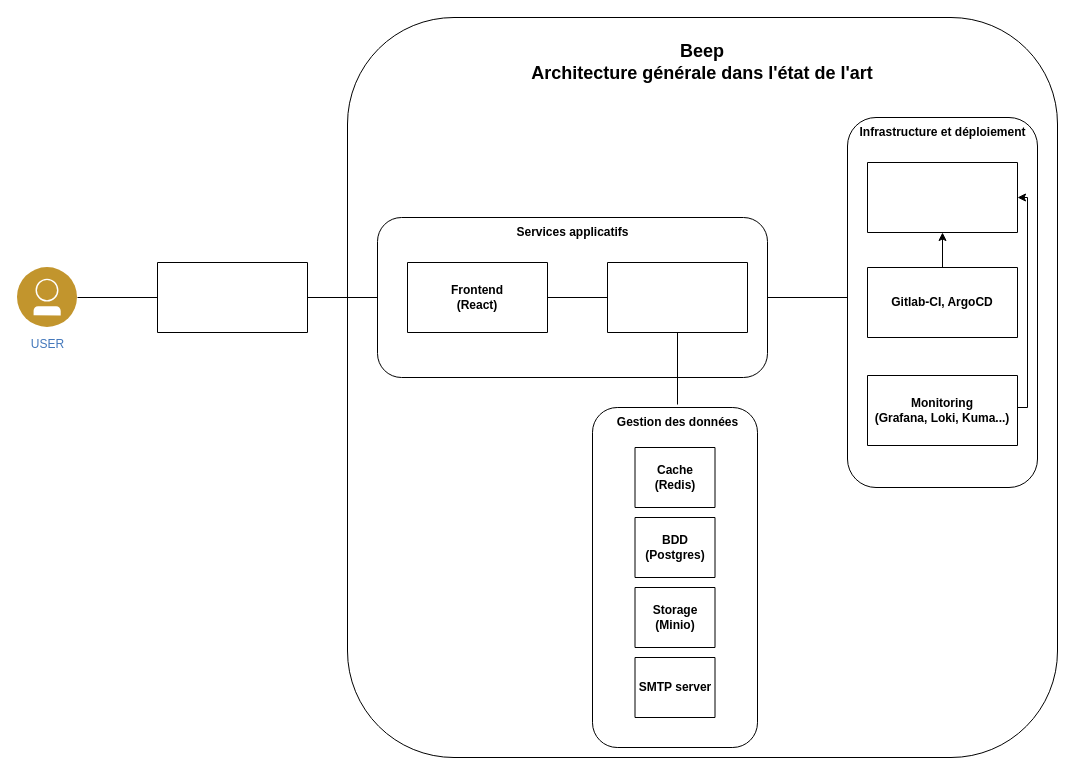
Some shapes in this 1075 by 775 pixel diagram are drawn without their labels. The shapes that lost their labels are listed below. From the top down, each one's centre as x and y in pixels, then its label:
pixel 942 197: K8s cluster
pixel 232 297: Ingress (Traefik)
pixel 677 297: Backend (AdonisJs)
